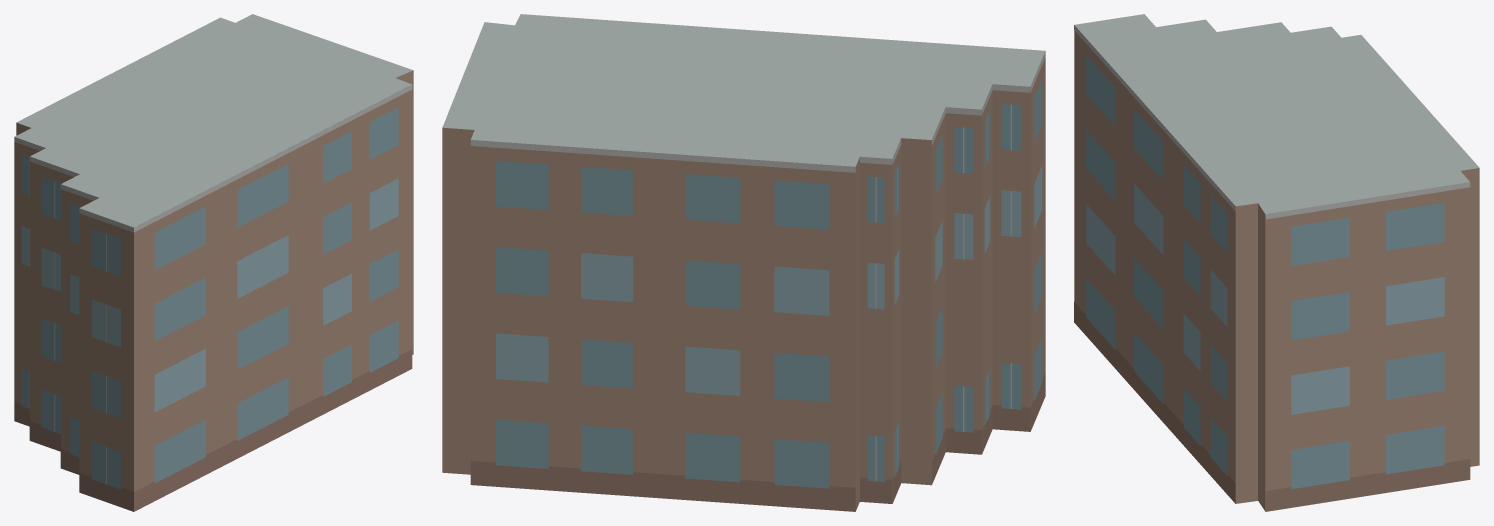
Rendered from survey-upis-33009452.glb.
3 views of the same model, side by side, from view 1: azimuth 30°, elevation 25°; view 2: azimuth 150°, elevation 25°; view 3: azimuth 270°, elevation 25° (orthographic). The views are drawn at different scales.
Parts seen in each view (by area): view 1: survey-upis-33009452.tmp; view 2: survey-upis-33009452.tmp; view 3: survey-upis-33009452.tmp.
Part boxes in pixels (x1,y1,x2,y2): survey-upis-33009452.tmp: (14, 14, 413, 511); survey-upis-33009452.tmp: (442, 14, 1045, 511); survey-upis-33009452.tmp: (1074, 14, 1479, 511).
Bounding box in the file's own units: 20.14 × 13.95 × 17.24.
